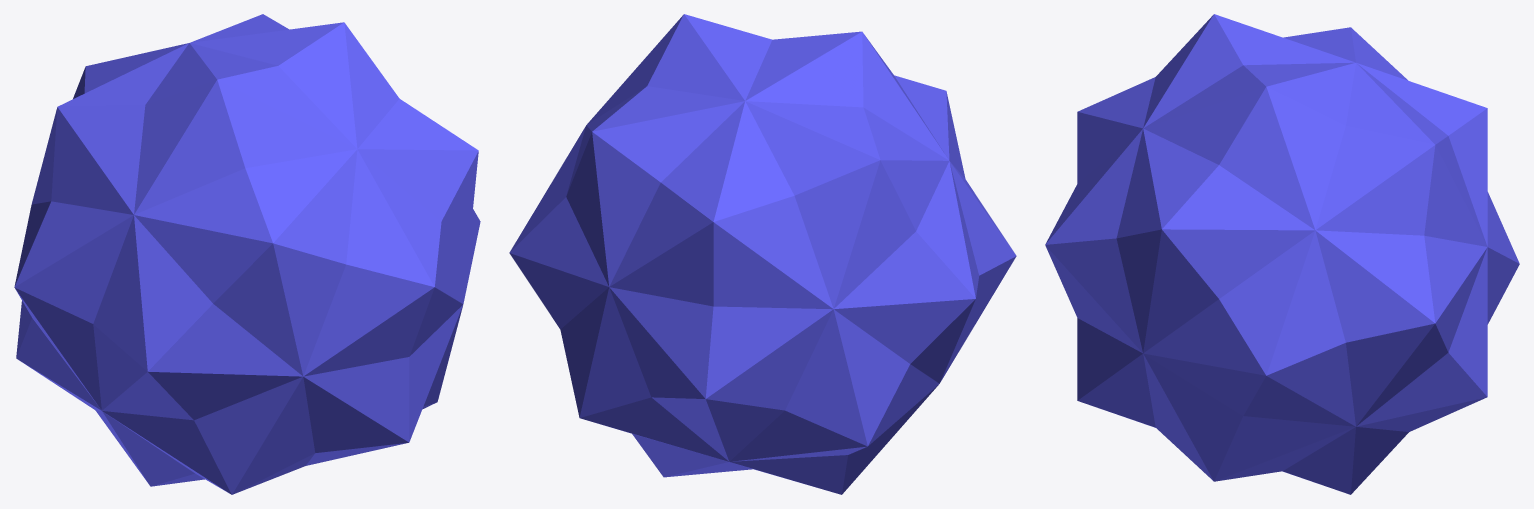
Rendered from small_icosacronic_hexecontahedron.obj.
3 renders of one model, left to right at view 1: azimuth 30°, elevation 25°; view 2: azimuth 150°, elevation 25°; view 3: azimuth 270°, elevation 25°, orthographic. The views are drawn at different scales.
Parts seen in each view (by area): view 1: Shape_IndexedFaceSet; view 2: Shape_IndexedFaceSet; view 3: Shape_IndexedFaceSet.
Part boxes in pixels (box(x1,y1,x2,y2)): Shape_IndexedFaceSet: box(14, 14, 480, 494); Shape_IndexedFaceSet: box(509, 14, 1016, 494); Shape_IndexedFaceSet: box(1045, 14, 1519, 494).
Bounding box in the file's own units: 2.34 × 2.16 × 2.21.
